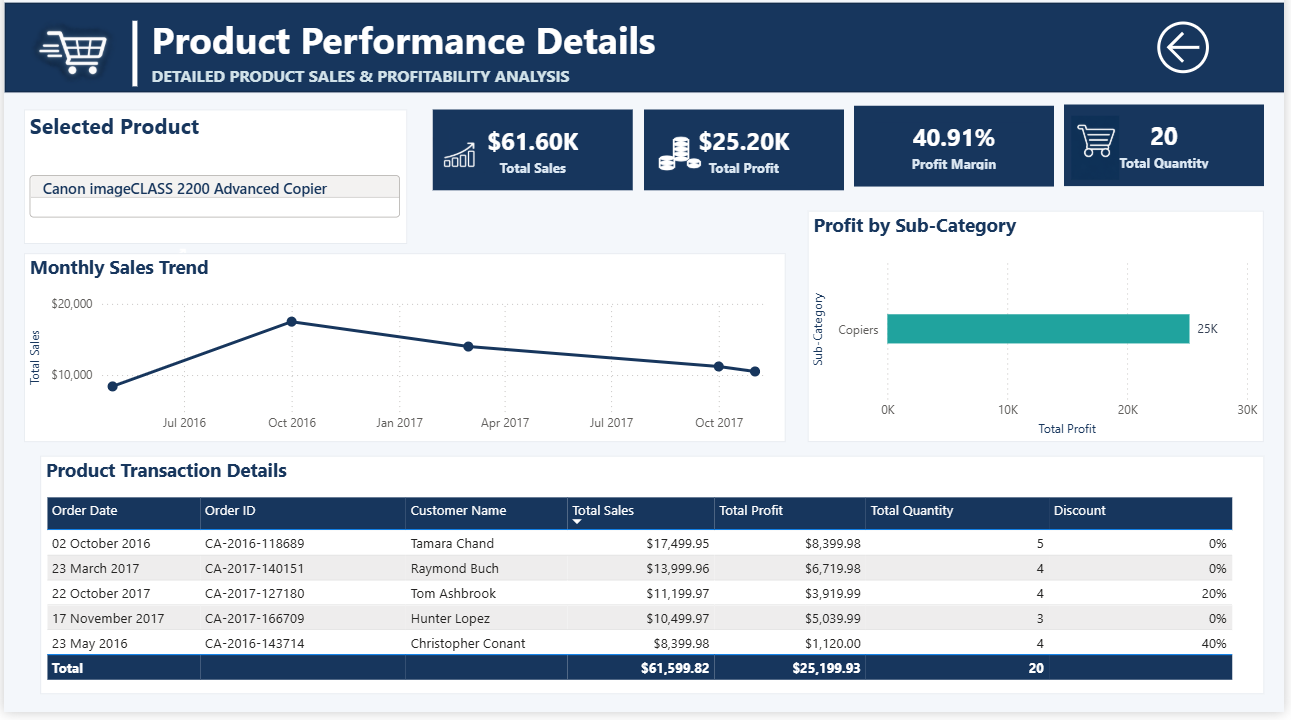

This screenshot's page, from the dashboard's own definition file:
{"tool":"powerbi","page":{"name":"Product Performance","canvas":[1280,720],"ordinal":4},"visuals":[{"type":"shape","box":[0,10,1400,91.4],"z":0},{"type":"actionButton","box":[1145.7,22.9,134.3,65.7],"z":1000},{"type":"textbox","box":[142.9,17.1,692.9,84.3],"z":2000},{"type":"image","box":[0,22.9,142.9,78.6],"z":3000},{"type":"image","box":[108.6,251.4,121.4,42.9],"z":4000},{"type":"shape","box":[108.6,28.6,44.3,65.7],"z":5000},{"type":"cardVisual","title":"Selected Product","fields":{"Rows":["Fact_Sales.Product Name"]},"box":[20,117.1,382.9,134.3],"z":6000},{"type":"cardVisual","fields":{"Data":["Fact_Sales.Total Sales"]},"box":[428.6,117.1,200,81],"z":7000},{"type":"cardVisual","fields":{"Data":["Fact_Sales.Total Profit"]},"box":[640,117.1,200,81],"z":8000},{"type":"cardVisual","fields":{"Data":["Fact_Sales.Profit Margin"]},"box":[850,114.3,200,81],"z":9000},{"type":"cardVisual","fields":{"Data":["Fact_Sales.Total Quantity"]},"box":[1060,112.9,200,81.4],"z":10000},{"type":"lineChart","title":"Monthly Sales Trend","fields":{"Category":["Dim_Date.Month Start"],"Y":["Fact_Sales.Total Sales"]},"box":[20,261.4,761.4,188.6],"z":10001},{"type":"clusteredBarChart","title":"Profit by Sub-Category","fields":{"Category":["Fact_Sales.Sub-Category"],"Y":["Fact_Sales.Total Profit"]},"box":[804.3,218.6,455.7,231.4],"z":10002},{"type":"tableEx","title":"Product Transaction Details","fields":{"Values":["Fact_Sales.Order Date","Fact_Sales.Order ID","Fact_Sales.Customer Name","Fact_Sales.Total Sales","Fact_Sales.Total Profit","Fact_Sales.Total Quantity","Fact_Sales.Discount"]},"box":[35.7,464.3,1224.3,238.6],"z":10003},{"type":"image","box":[428.6,131.4,52.9,64.3],"z":10004},{"type":"image","box":[640,131.4,71.4,60],"z":10005},{"type":"image","box":[1060,124.3,62.9,64.3],"z":10006}]}

Visuals, with their boxes in screenshot pixels (x1, y1, x2, y2), scaled from the page's 1280x720 canvas onto the 1291x720 screenshot:
shape: (left=0, top=10, right=1290, bottom=101)
actionButton: (left=1156, top=23, right=1290, bottom=89)
textbox: (left=144, top=17, right=843, bottom=101)
image: (left=0, top=23, right=144, bottom=102)
image: (left=110, top=251, right=232, bottom=294)
shape: (left=110, top=29, right=154, bottom=94)
"Selected Product" cardVisual: (left=20, top=117, right=406, bottom=251)
cardVisual - Fact_Sales.Total Sales: (left=432, top=117, right=634, bottom=198)
cardVisual - Fact_Sales.Total Profit: (left=646, top=117, right=847, bottom=198)
cardVisual - Fact_Sales.Profit Margin: (left=857, top=114, right=1059, bottom=195)
cardVisual - Fact_Sales.Total Quantity: (left=1069, top=113, right=1271, bottom=194)
"Monthly Sales Trend" lineChart: (left=20, top=261, right=788, bottom=450)
"Profit by Sub-Category" clusteredBarChart: (left=811, top=219, right=1271, bottom=450)
"Product Transaction Details" tableEx: (left=36, top=464, right=1271, bottom=703)
image: (left=432, top=131, right=486, bottom=196)
image: (left=646, top=131, right=718, bottom=191)
image: (left=1069, top=124, right=1133, bottom=189)
